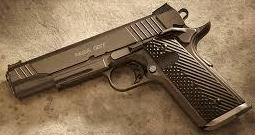gun: (1, 1, 255, 135)
